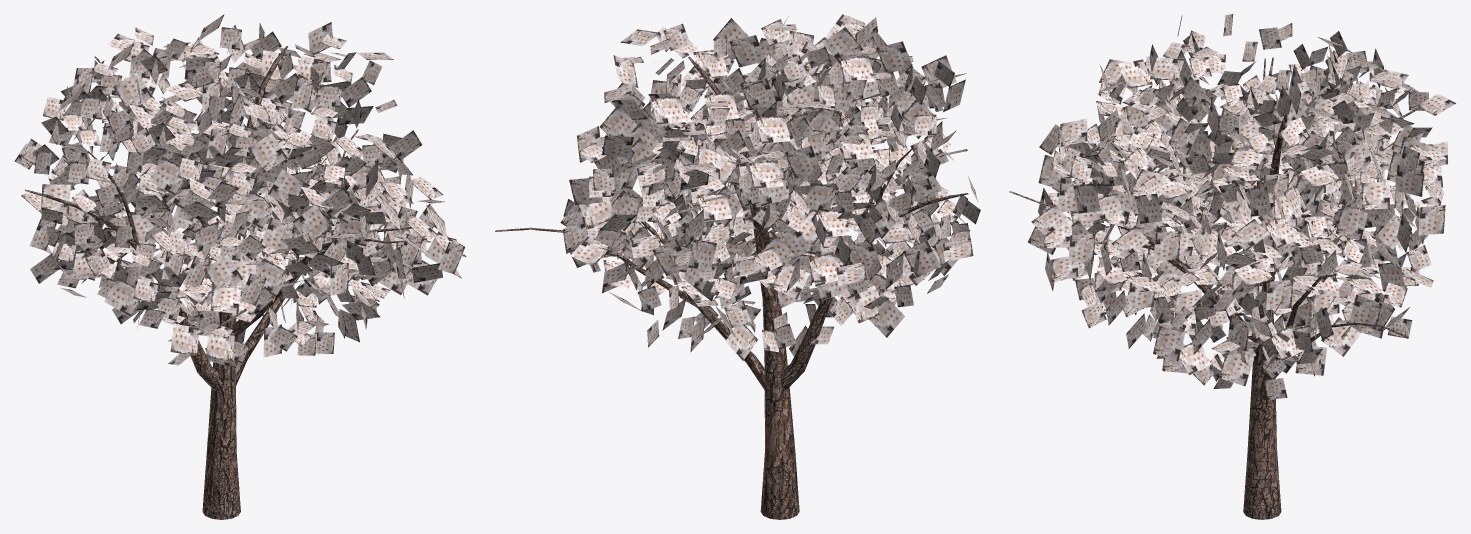
Rendered from tree_33.glb.
The picture shows the model from 3 angles, left to right: view 1: azimuth 30°, elevation 25°; view 2: azimuth 150°, elevation 25°; view 3: azimuth 270°, elevation 25°; orthographic projection. The views are drawn at different scales.
Visible parts, largest first — view 1: MainBuilding; view 2: MainBuilding; view 3: MainBuilding.
Part boxes in pixels (left/top/right/bottom): MainBuilding: left=14, top=14, right=466, bottom=519; MainBuilding: left=495, top=14, right=980, bottom=519; MainBuilding: left=1009, top=14, right=1456, bottom=519.
Size of the model in its own units: 8.26 by 8.95 by 8.05.
1 material, 1 textured.
